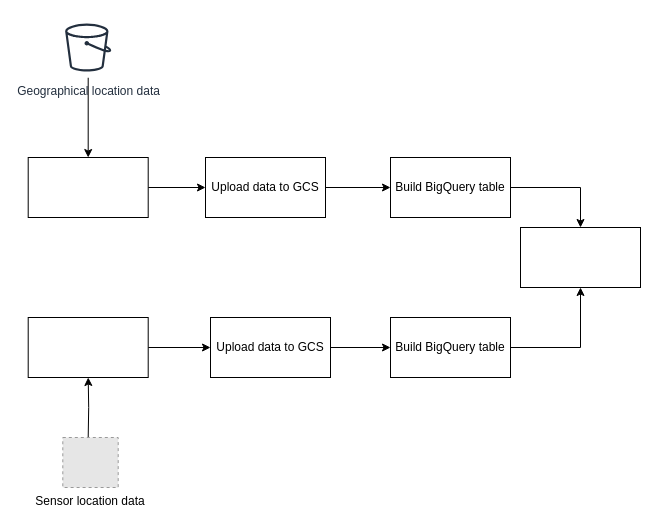
Image size: 659x526. Some labels were removed from this diagram. Grey dashed boxes stand in for pictures. The centre of each missing label's shape, as x and y in pixels:
"Combine information using a spatial JOIN" goes at point (580, 257).
"Get geographical location data" goes at point (87, 187).
"Get sensor location data" goes at point (87, 347).
